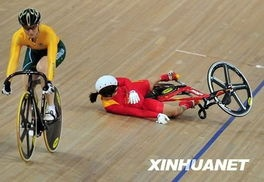falling: (87, 66, 200, 128)
